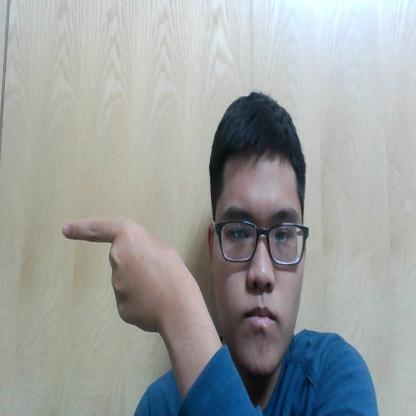right: (58, 206, 196, 356)
